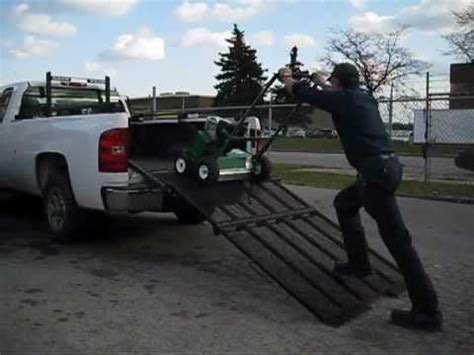Yard Ramp: (154, 166, 415, 328)
